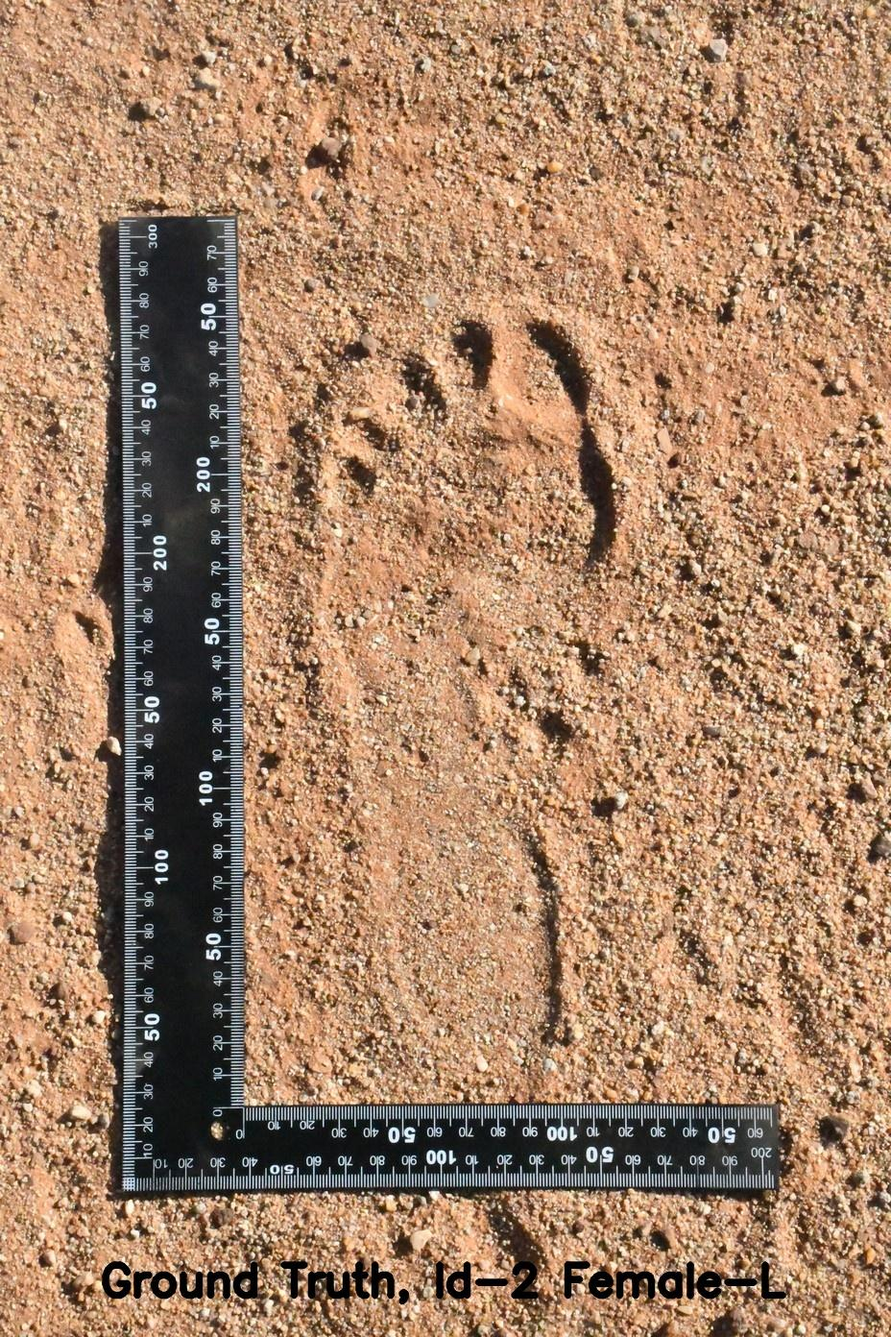human_footprint: (266, 250, 714, 1101)
